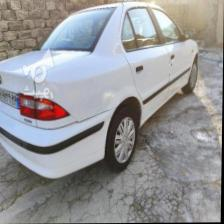plate: (0, 89, 22, 109)
